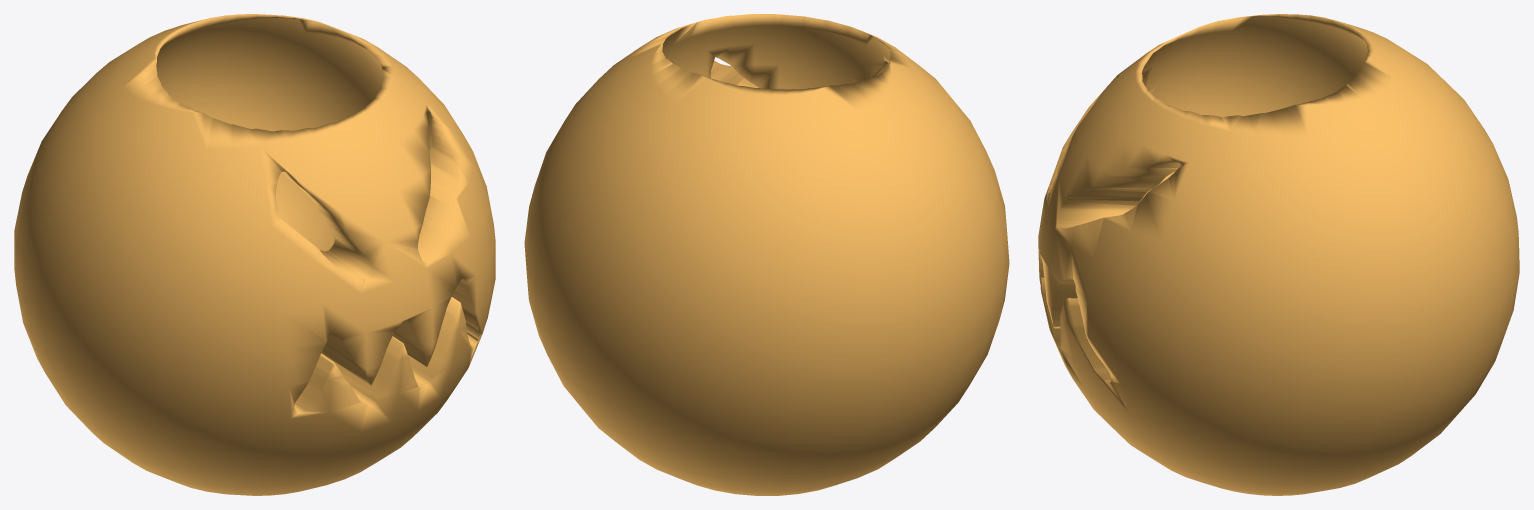
The picture shows the model from 3 angles, left to right: view 1: azimuth 30°, elevation 25°; view 2: azimuth 150°, elevation 25°; view 3: azimuth 270°, elevation 25°; orthographic projection.
Visible parts, largest first — view 1: obj_0.015_obj_0.016; view 2: obj_0.015_obj_0.016; view 3: obj_0.015_obj_0.016.
Boxes of the visible parts, left/top/right/bottom form: obj_0.015_obj_0.016: left=14, top=14, right=495, bottom=495; obj_0.015_obj_0.016: left=524, top=14, right=1009, bottom=495; obj_0.015_obj_0.016: left=1038, top=14, right=1519, bottom=495.
Bounding box in the file's own units: 0.0388 × 0.0375 × 0.0388.
